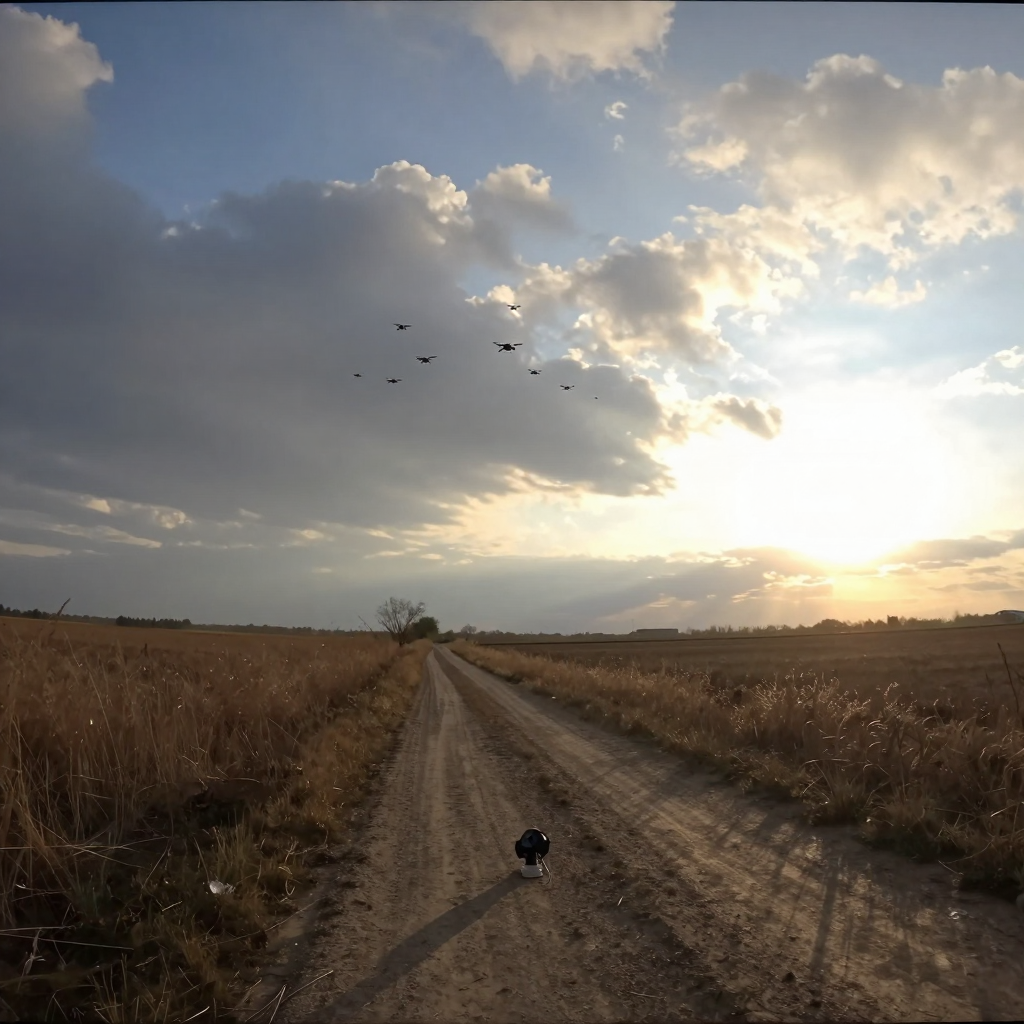drone: (492, 338, 521, 352), (416, 356, 437, 364), (393, 324, 412, 331), (385, 378, 402, 384), (507, 304, 521, 311), (528, 369, 542, 375), (560, 385, 575, 390), (353, 373, 362, 377)
